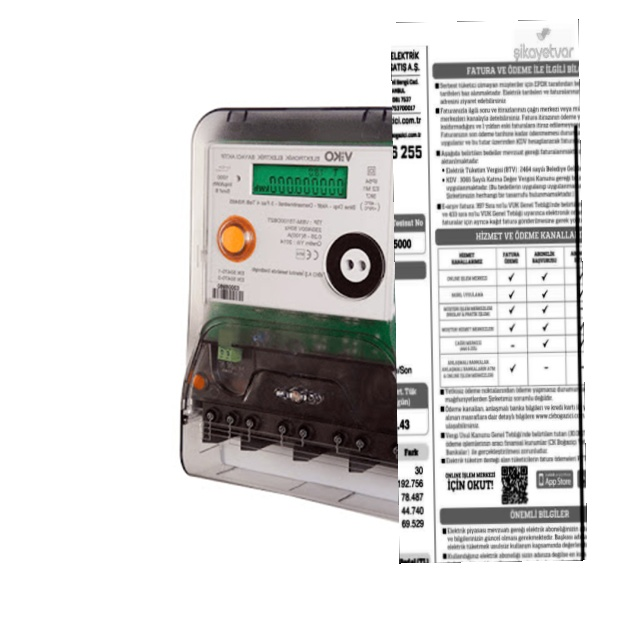electricity-bill: (390, 19, 586, 564)
